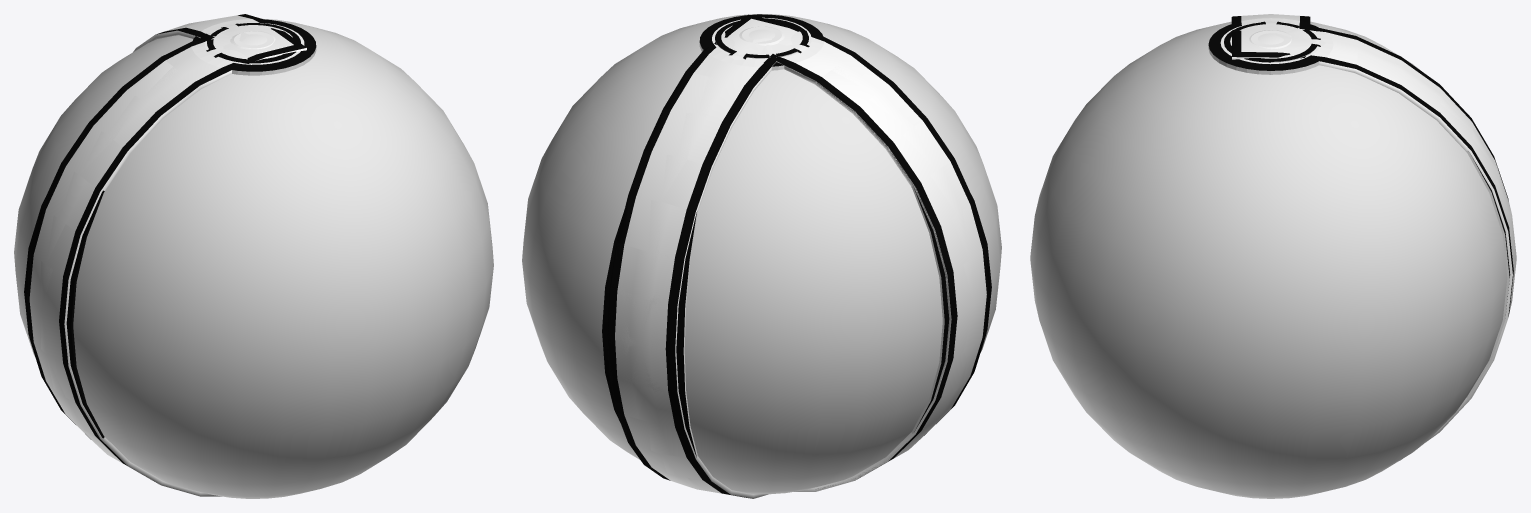
Rendered from Sphere_Stripes.fbx.
3 renders of one model, left to right at view 1: azimuth 30°, elevation 25°; view 2: azimuth 150°, elevation 25°; view 3: azimuth 270°, elevation 25°, orthographic.
Visible parts, largest first — view 1: Sphere, Stripes_Sphere_1, Stripes_Sphere_2, Stripes_Sphere_3; view 2: Sphere, Stripes_Sphere_1, Stripes_Sphere_2, Stripes_Sphere_3; view 3: Sphere, Stripes_Sphere_1, Stripes_Sphere_2, Stripes_Sphere_3.
Part boxes in pixels (x1,y1,x2,y2): Sphere: [14, 18, 493, 498]; Stripes_Sphere_1: [25, 14, 316, 496]; Stripes_Sphere_2: [26, 14, 306, 470]; Stripes_Sphere_3: [24, 23, 300, 438]; Sphere: [522, 14, 1001, 494]; Stripes_Sphere_1: [607, 14, 990, 498]; Stripes_Sphere_2: [607, 14, 990, 497]; Stripes_Sphere_3: [602, 18, 991, 457]; Sphere: [1030, 21, 1507, 498]; Stripes_Sphere_1: [1208, 14, 1516, 460]; Stripes_Sphere_2: [1232, 16, 1516, 315]; Stripes_Sphere_3: [1224, 21, 1510, 398].
Bounding box in the file's own units: 1.01 × 1.01 × 1.01.
Materials: 1 (1 with a texture image).
